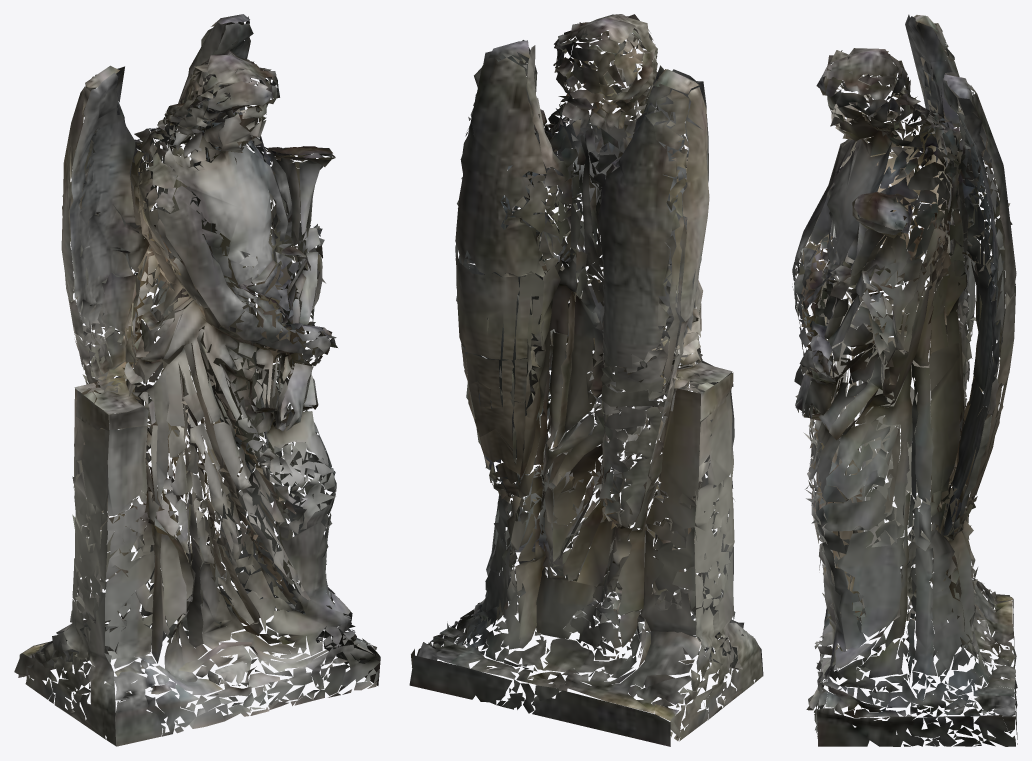
Rendered from grab_reden.glb.
The picture shows the model from 3 angles, left to right: view 1: azimuth 30°, elevation 25°; view 2: azimuth 150°, elevation 25°; view 3: azimuth 270°, elevation 25°; orthographic projection.
Parts seen in each view (by area): view 1: Object_2; view 2: Object_2; view 3: Object_2.
Part boxes in pixels (box(x1,y1,x2,y2)): Object_2: box(14, 14, 380, 746); Object_2: box(409, 14, 763, 746); Object_2: box(792, 14, 1017, 746).
Size of the model in its own units: 0.7376 by 1.67 by 0.5383.
Materials: 1 (1 with a texture image).
